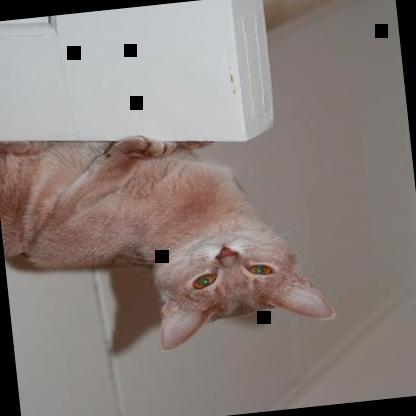cat: (0, 103, 337, 367)
